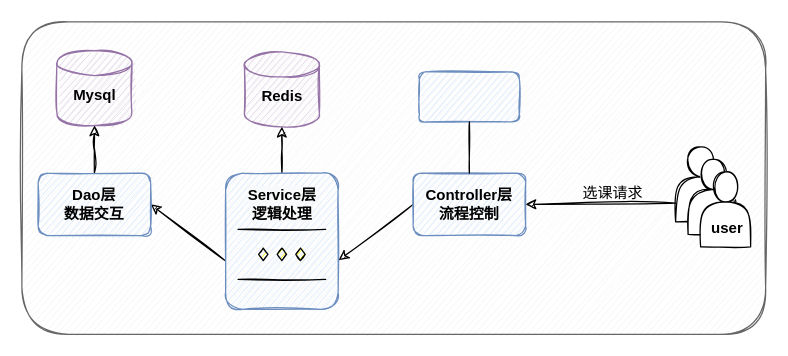
Some shapes in this 788 by 356 pixel diagram are drawn without their labels. Each missing label, with the centre of its shape:
RabbitMQ: the point at 281,253
全局异常处理: the point at 468,96
